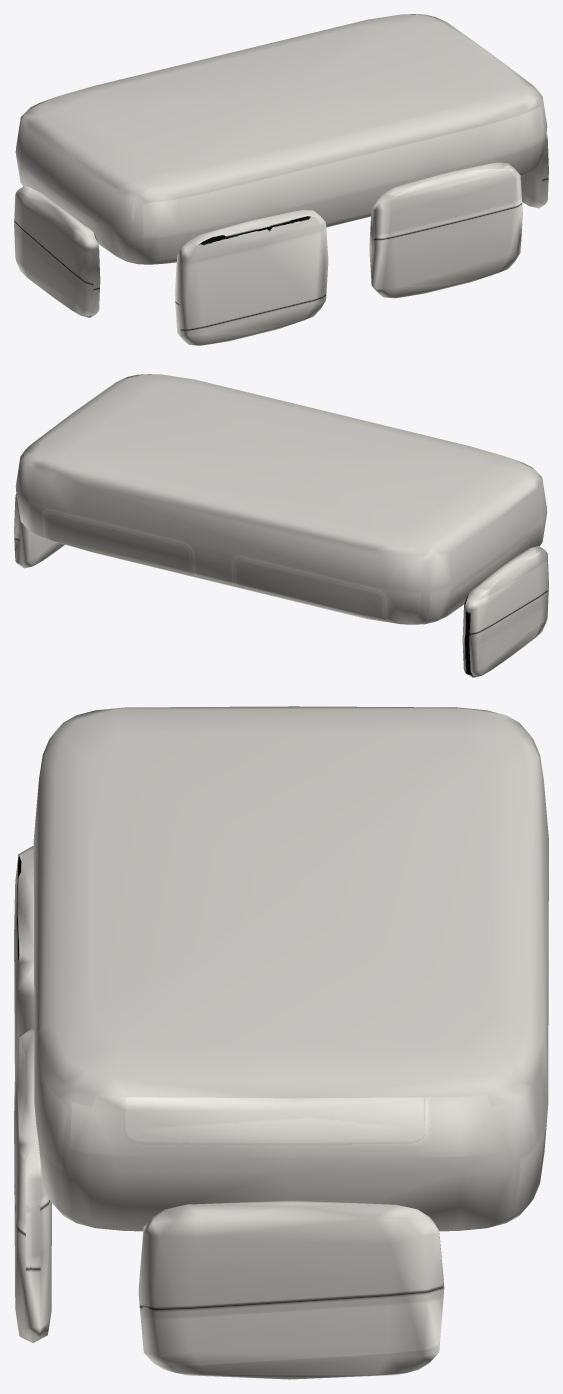
Rendered from Centinela_PetoBajo.fbx.
3 views of the same model, one above another, from view 1: azimuth 30°, elevation 25°; view 2: azimuth 150°, elevation 25°; view 3: azimuth 270°, elevation 25° (orthographic). The views are drawn at different scales.
Visible parts, largest first — view 1: Centinela_PetoBajo; view 2: Centinela_PetoBajo; view 3: Centinela_PetoBajo.
Part boxes in pixels (bbox=[...]): Centinela_PetoBajo: bbox=[14, 14, 548, 345]; Centinela_PetoBajo: bbox=[14, 374, 548, 677]; Centinela_PetoBajo: bbox=[14, 706, 548, 1379].
Size of the model in its own units: 2.29 by 0.7757 by 1.19.
